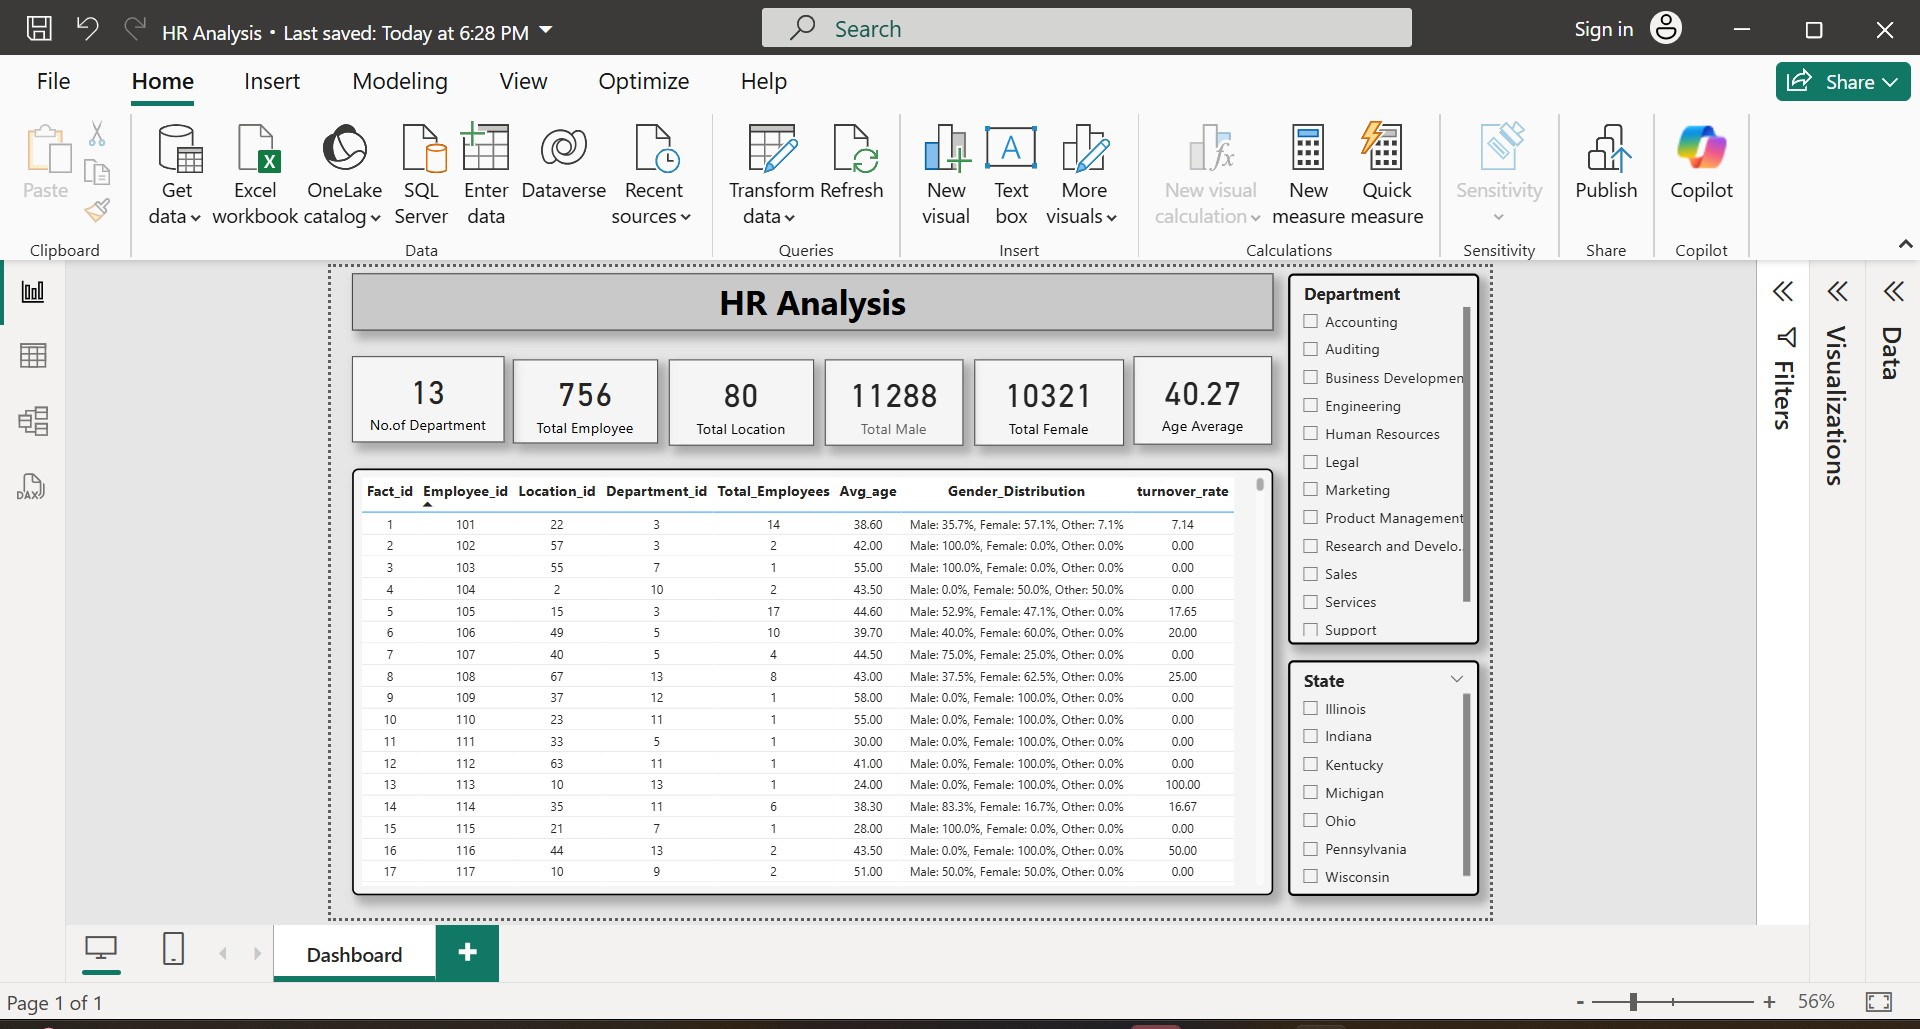

The dashboard page shown, as its layout file describes it:
{"tool":"powerbi","page":{"name":"Dashboard","canvas":[1280,720],"ordinal":0},"visuals":[{"type":"tableEx","fields":{"Values":["FactEmployee.fact_id","FactEmployee.employee_id","FactEmployee.location_id","FactEmployee.department_id","FactEmployee.total_employees","FactEmployee.avg_age","FactEmployee.gender_distribution","FactEmployee.turnover_rate"]},"box":[23.3,222.5,1015.7,472],"z":0},{"type":"textbox","box":[23.7,7.1,1017.3,62.8],"z":1000},{"type":"card","fields":{"Values":["DimEmployee.Total Employee"]},"box":[200.1,101.9,159.9,92.4],"z":2000},{"type":"card","fields":{"Values":["DimDepartment.No.of Department"]},"box":[22.5,99.5,168.2,94.7],"z":3000},{"type":"card","fields":{"Values":["DimLocation.Total Location"]},"box":[373.1,101.9,159.9,94.7],"z":4000},{"type":"card","fields":{"Values":["DimEmployee.Total Female"]},"box":[710.6,101.9,164.6,94.7],"z":5000},{"type":"card","fields":{"Values":["DimEmployee.Total Male"]},"box":[546,101.9,152.8,94.7],"z":6000},{"type":"slicer","fields":{"Values":["DimDepartment.department"]},"box":[1056.4,7.1,210.8,409.8],"z":7000},{"type":"slicer","fields":{"Values":["DimLocation.location_state"]},"box":[1056.4,433.5,210.8,260.5],"z":8000},{"type":"card","fields":{"Values":["Avg(FactEmployee.avg_age)"]},"box":[887,99.5,152.8,97.1],"z":9000}]}

Visuals, with their boxes on the page's 1280x720 design canvas (x1, y1, x2, y2). These are canvas units, not pixel positions in the 1920x1029 screenshot, which may show the page scaled, cropped or inside an application window:
tableEx - FactEmployee.fact_id x FactEmployee.employee_id: bbox(23, 222, 1039, 694)
textbox: bbox(24, 7, 1041, 70)
card - DimEmployee.Total Employee: bbox(200, 102, 360, 194)
card - DimDepartment.No.of Department: bbox(22, 100, 191, 194)
card - DimLocation.Total Location: bbox(373, 102, 533, 197)
card - DimEmployee.Total Female: bbox(711, 102, 875, 197)
card - DimEmployee.Total Male: bbox(546, 102, 699, 197)
slicer - DimDepartment.department: bbox(1056, 7, 1267, 417)
slicer - DimLocation.location_state: bbox(1056, 434, 1267, 694)
card - Avg(FactEmployee.avg_age): bbox(887, 100, 1040, 197)
